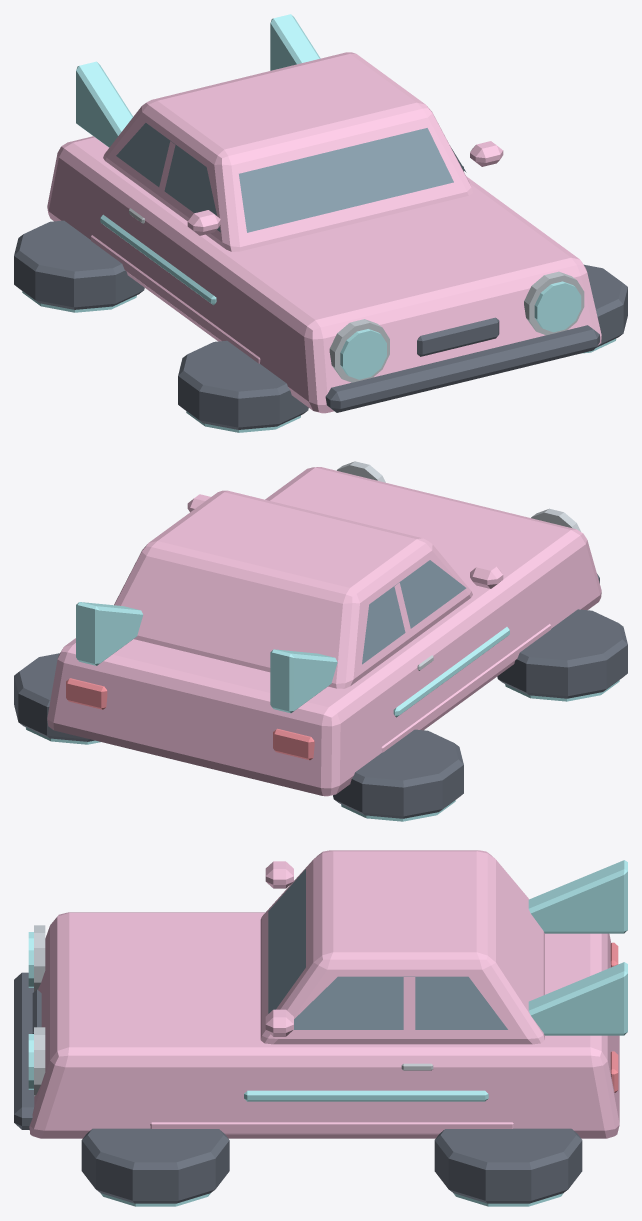
File: hover_car.glb
3 renders of one model, top to bottom at view 1: azimuth 30°, elevation 25°; view 2: azimuth 150°, elevation 25°; view 3: azimuth 270°, elevation 25°, orthographic. The views are drawn at different scales.
Visible parts, largest first — view 1: hover_car_pink.001, hover_car_black, hover_car_glass.001, hover_car_cyan.001, hover_car_gray; view 2: hover_car_pink.001, hover_car_black, hover_car_cyan.001, hover_car_glass.001, hover_car_red, hover_car_gray; view 3: hover_car_pink.001, hover_car_black, hover_car_cyan.001, hover_car_glass.001, hover_car_gray, hover_car_red.
Boxes of the visible parts, box(x1,y1,x2,y2) form: hover_car_pink.001: box(47, 52, 601, 413); hover_car_black: box(14, 166, 627, 429); hover_car_glass.001: box(116, 123, 466, 232); hover_car_cyan.001: box(22, 14, 616, 432); hover_car_gray: box(129, 208, 584, 382); hover_car_pink.001: box(47, 467, 601, 796); hover_car_black: box(14, 574, 627, 818); hover_car_cyan.001: box(25, 602, 619, 821); hover_car_glass.001: box(362, 560, 466, 664); hover_car_red: box(66, 678, 314, 760); hover_car_gray: box(337, 461, 580, 670); hover_car_pink.001: box(29, 850, 619, 1138); hover_car_black: box(14, 972, 582, 1203); hover_car_cyan.001: box(28, 860, 627, 1206); hover_car_glass.001: box(268, 869, 507, 1029); hover_car_gray: box(34, 925, 433, 1096); hover_car_red: box(610, 942, 618, 1092).
Size of the model in its own units: 4.68 by 1.9 by 5.39.
